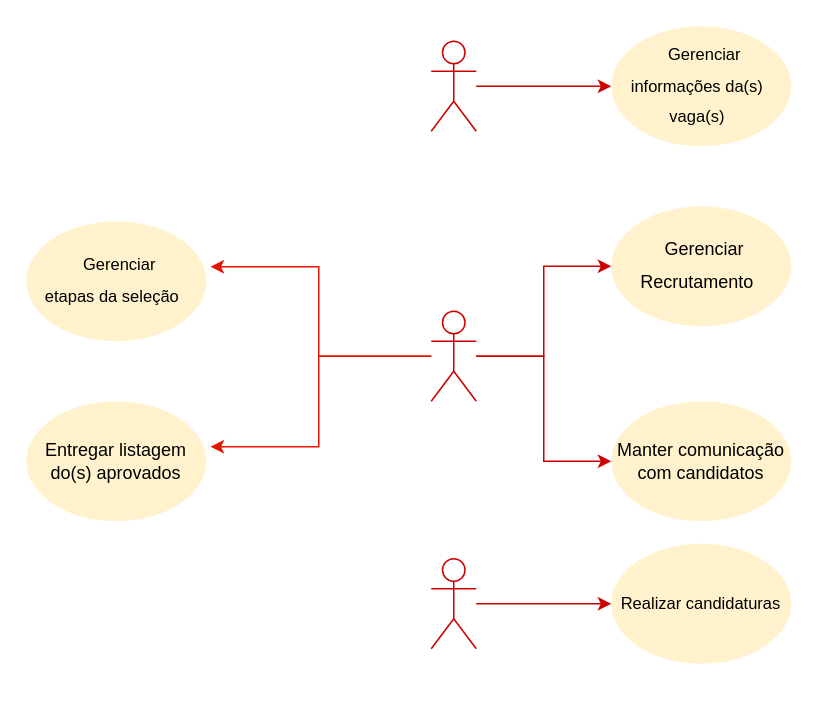
Some shapes in this 816 by 705 pixel diagram are drawn without their labels. Here are the shapes that lost their labels. From the top down, the centre of each, then its label:
At [453,85]: "Gestor da empresa parceira".
At [453,355]: "Funcionário do RH responsável pelo recrutamento".
At [453,603]: "Candidato".
